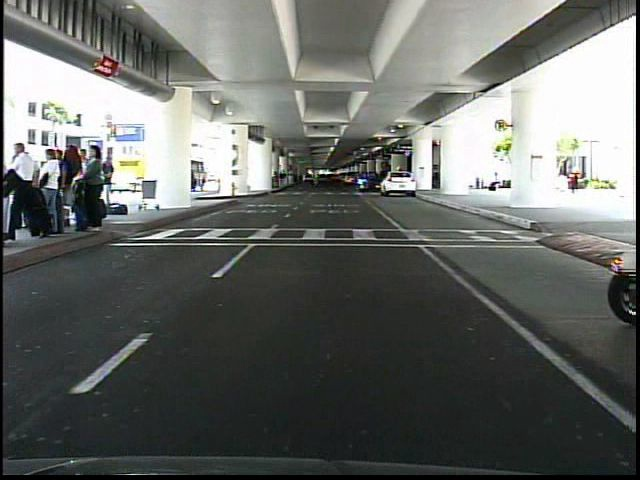person: (562, 159, 585, 199), (486, 167, 503, 199)
